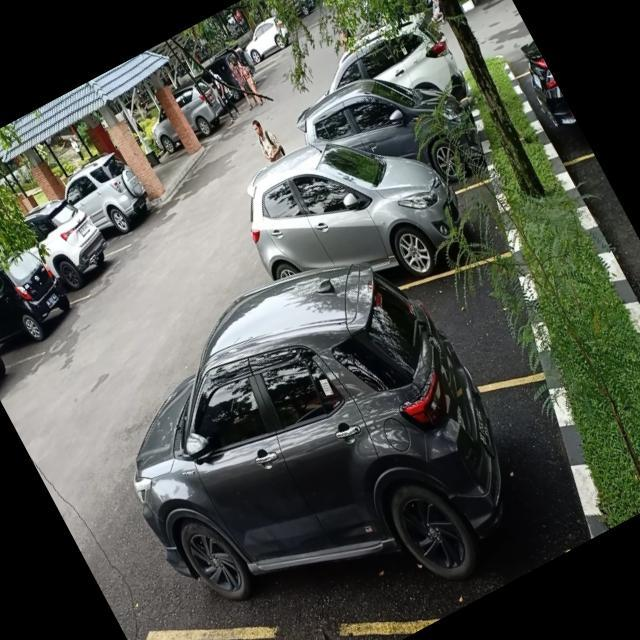occupied: (112, 299, 549, 640), (338, 142, 506, 310), (29, 193, 127, 307), (0, 263, 87, 369)
